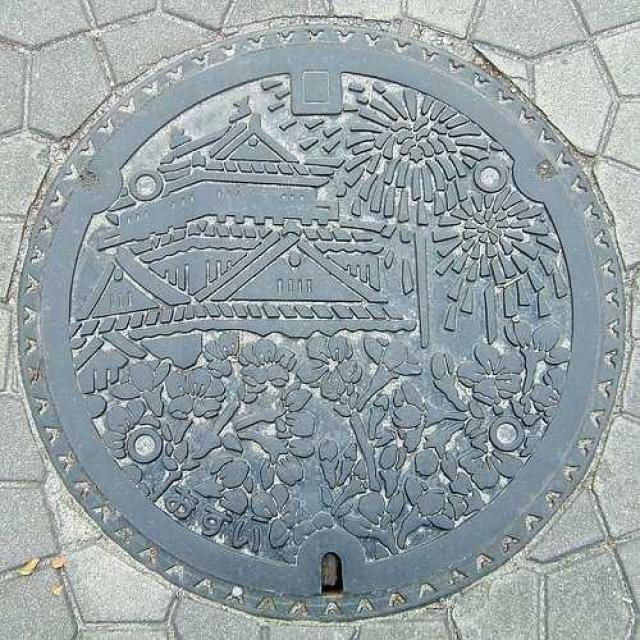manhole: (22, 29, 622, 619)
